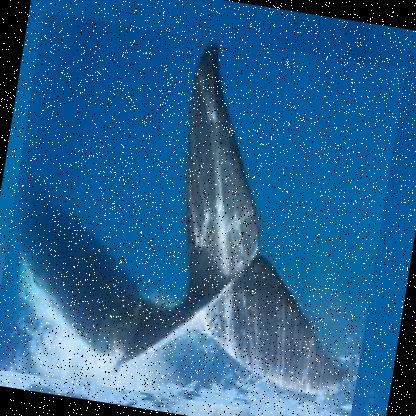blue_whale: (0, 10, 406, 415)
